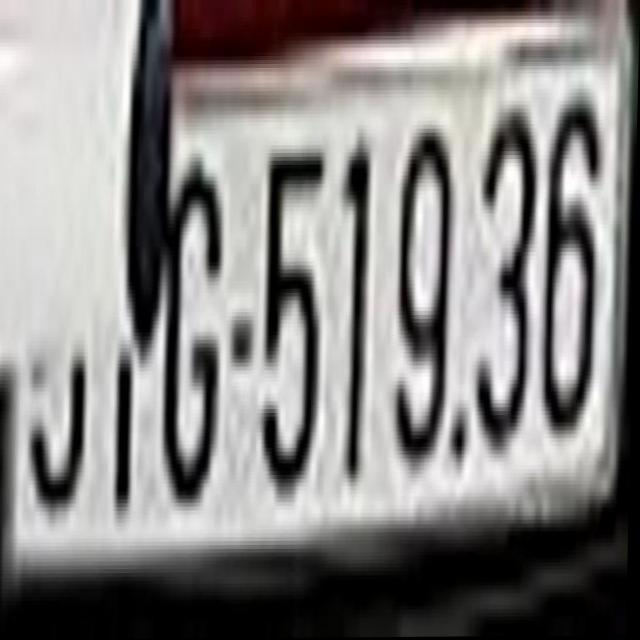1: (102, 85, 151, 527), (338, 122, 380, 498)
3: (475, 102, 534, 451)
5: (22, 96, 94, 512), (259, 110, 332, 510)
6: (539, 82, 609, 470)
9: (392, 94, 456, 475)
G: (160, 142, 228, 531)
